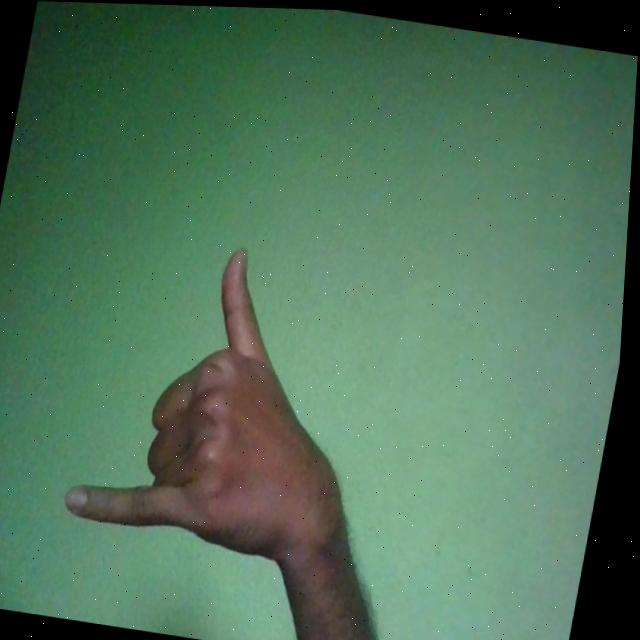Call Me: (63, 225, 402, 569)
